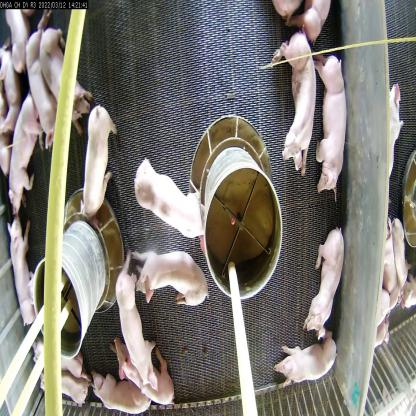Pig: (129, 152, 212, 236), (39, 13, 93, 132), (272, 20, 315, 168), (0, 202, 44, 326), (116, 324, 180, 409), (134, 244, 210, 314), (17, 16, 58, 138), (82, 99, 120, 230), (114, 275, 158, 383), (314, 47, 345, 197), (5, 94, 39, 216), (303, 231, 338, 336), (272, 340, 338, 390), (93, 371, 141, 406)
